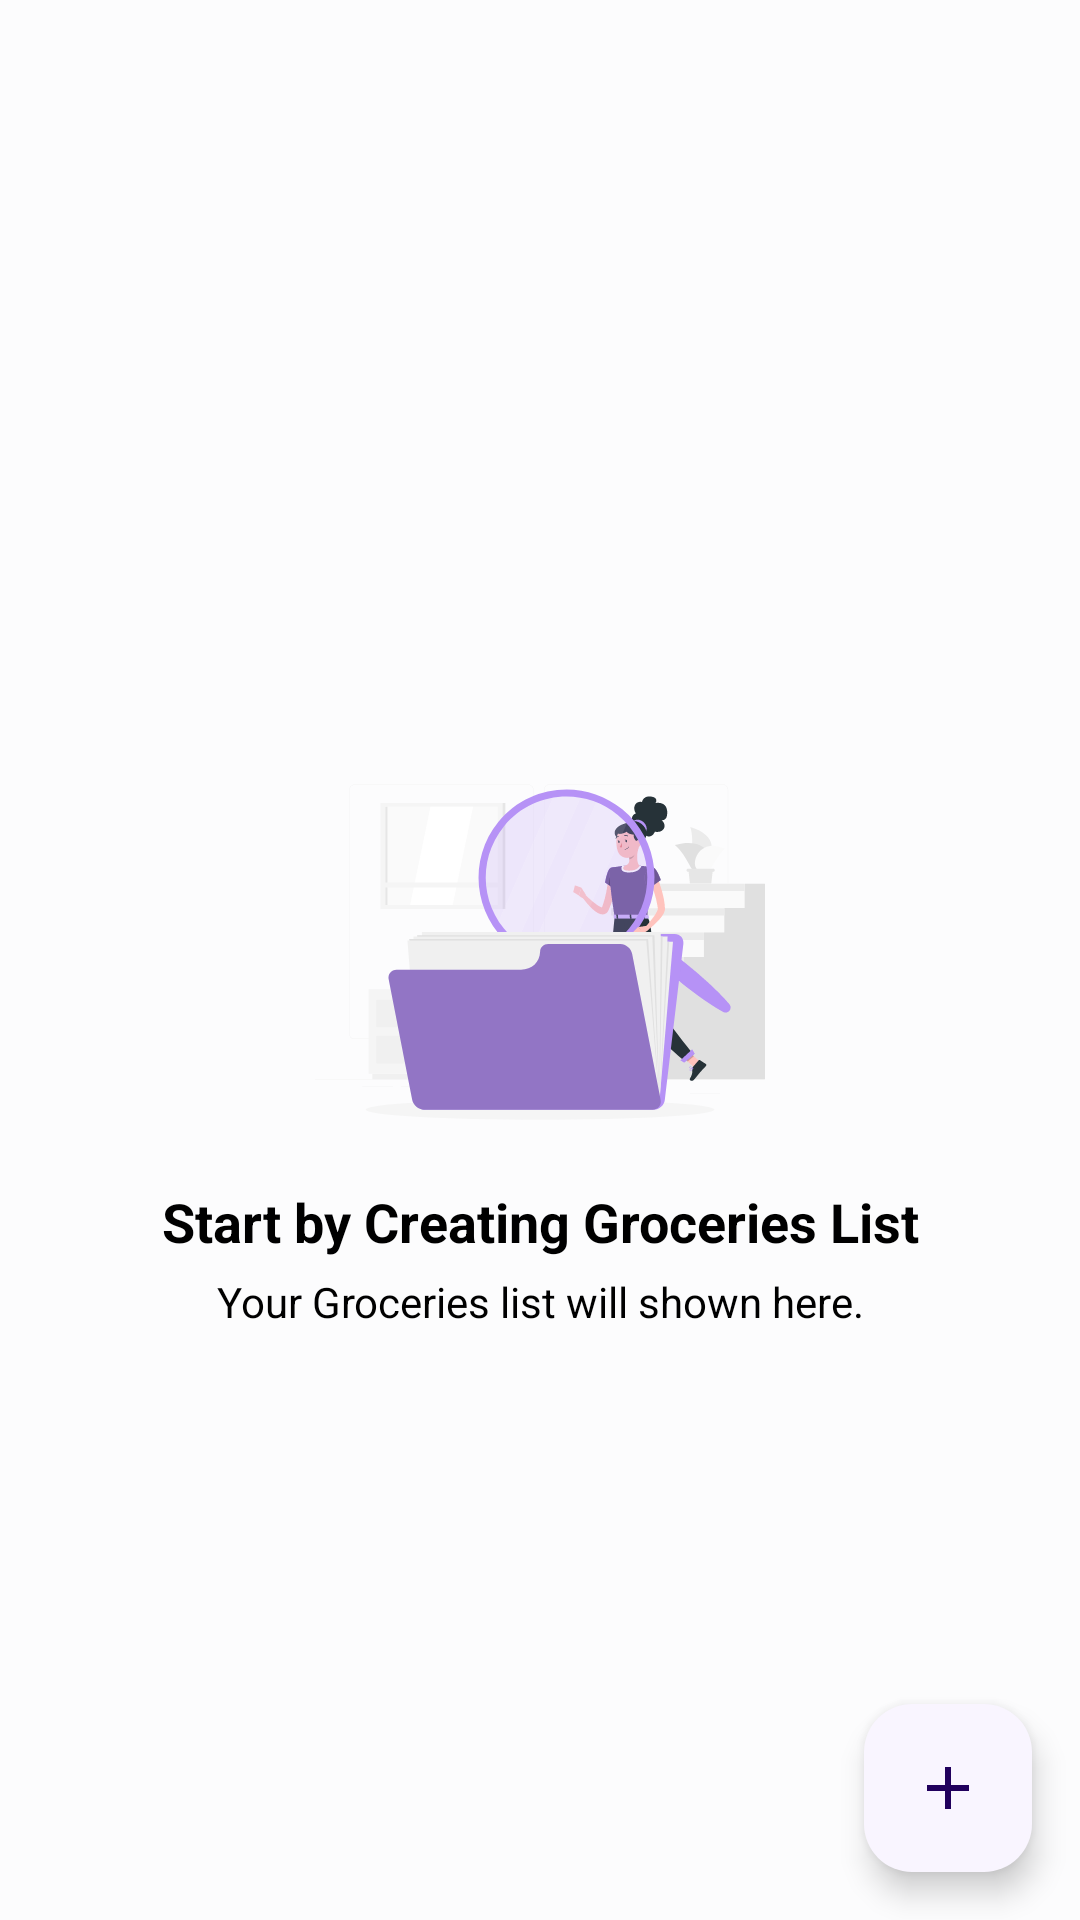

Locate icon controls on the screen. Image size 1080×1920, boxes as box(x1, y1, x2, y2).
Floating Button: box(869, 1767, 1032, 1872)
